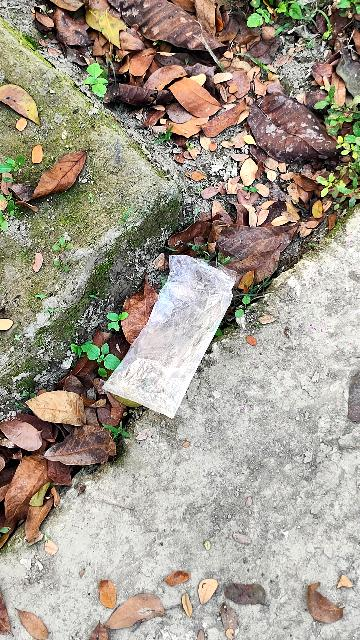polythene: (98, 259, 258, 409)
